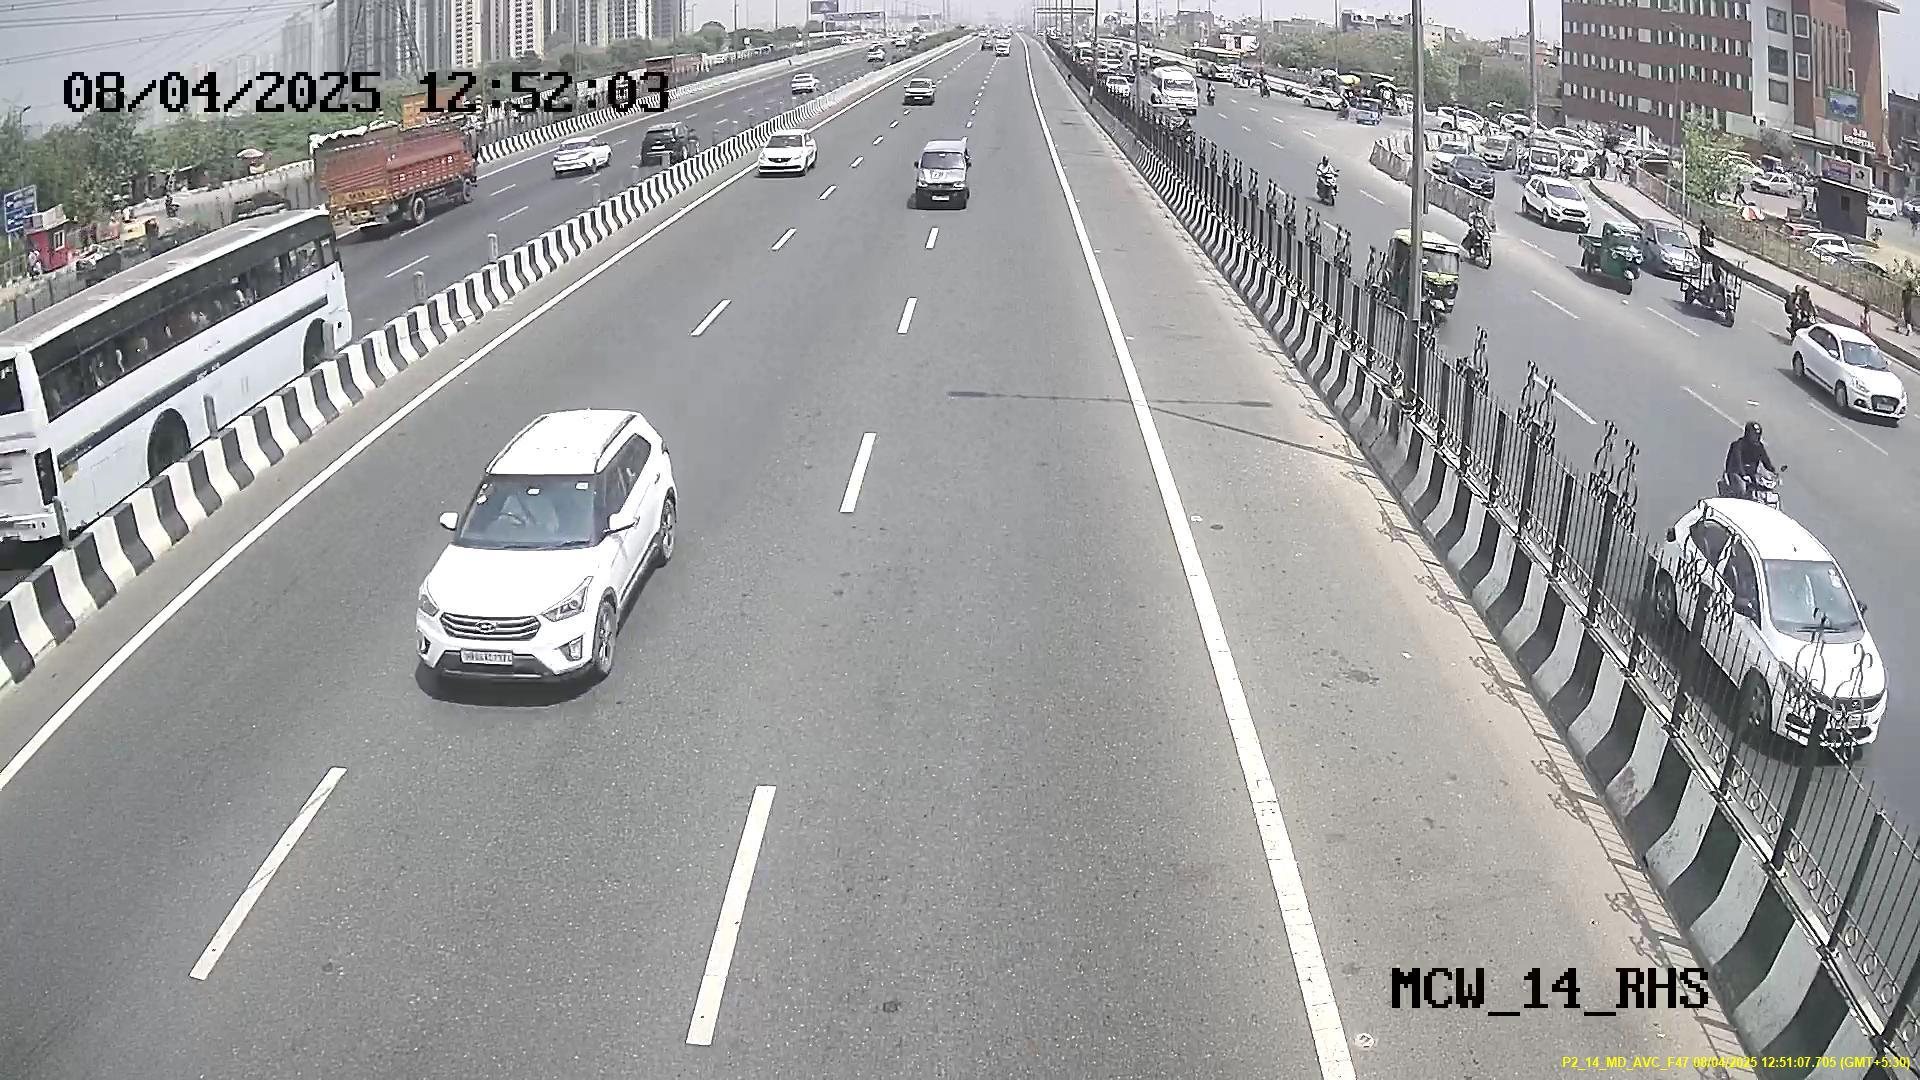car: (410, 458, 636, 684), (907, 135, 977, 206), (749, 125, 822, 181)
